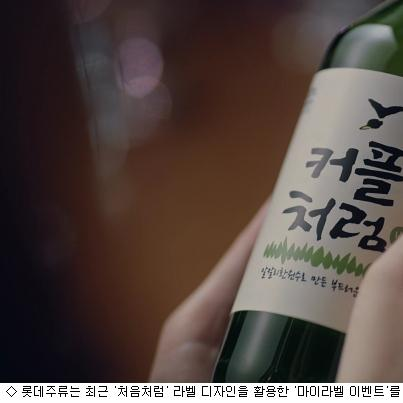soju: (208, 4, 401, 381)
